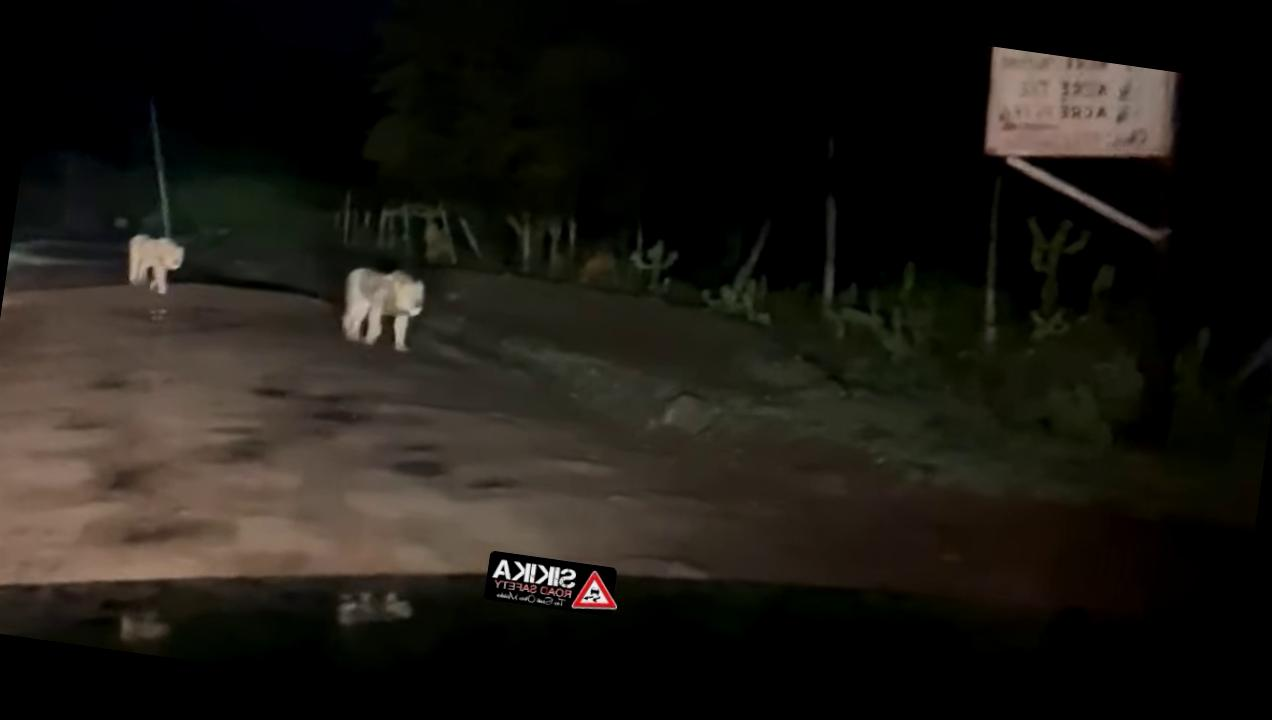lions: (316, 247, 440, 368), (113, 220, 194, 312)
